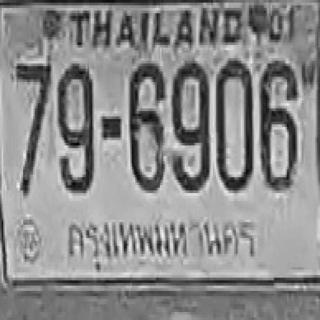N00: (215, 56, 252, 190)
N06: (260, 58, 296, 188), (129, 61, 163, 190)
N07: (15, 59, 51, 194)
N09: (171, 58, 209, 190), (56, 61, 94, 190)
P04: (62, 212, 258, 267)
